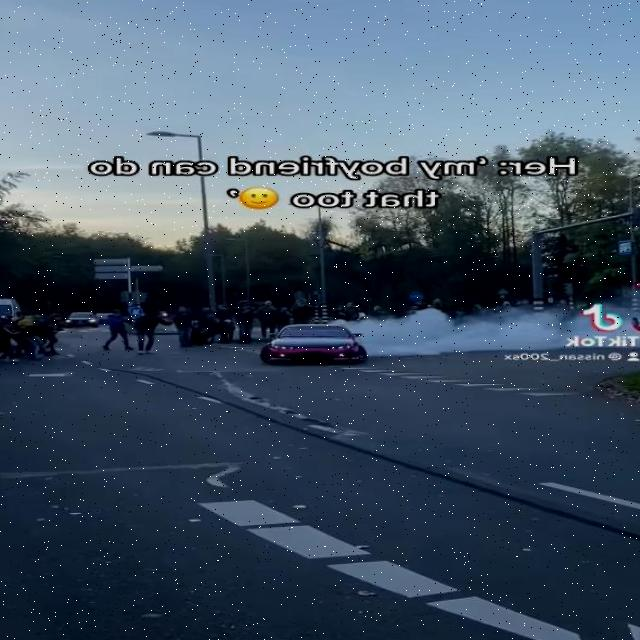car: (263, 324, 361, 370)
